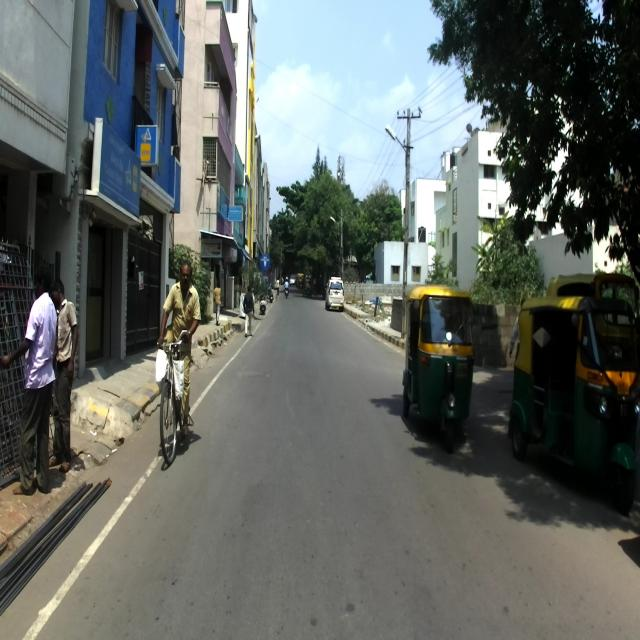Car_Mahindra: (324, 276, 344, 311)
autorickshaw: (507, 291, 640, 510), (401, 284, 480, 453)
